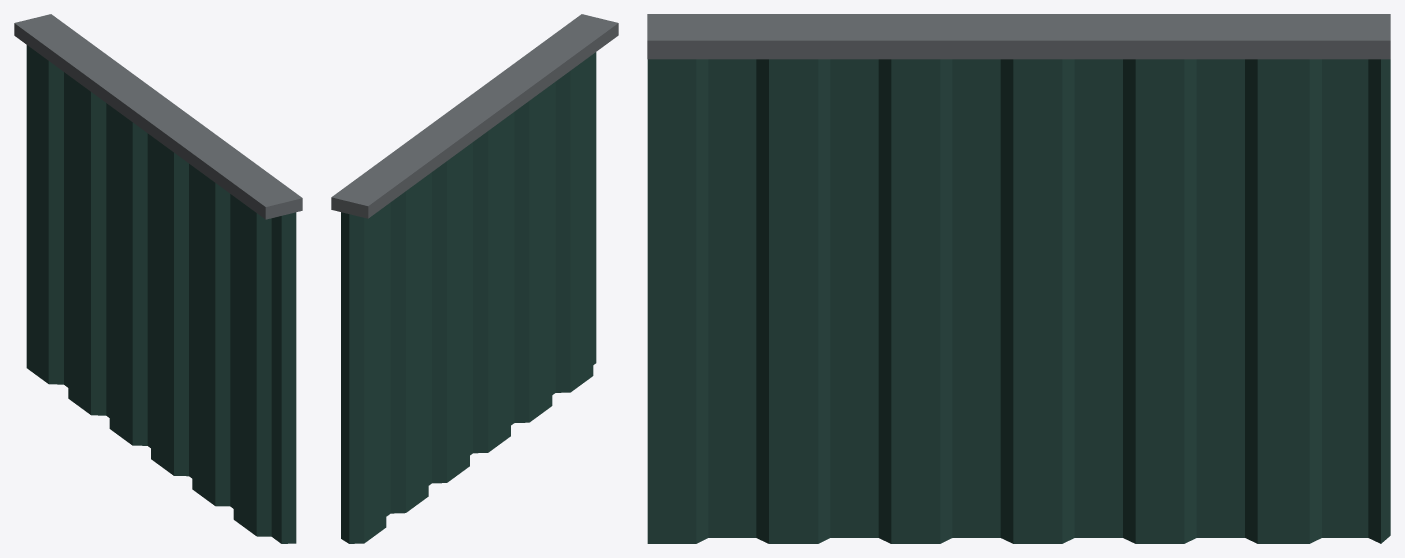
File: BlueMetalWallSmallCorrugatedFencing1.fbx
3 views of the same model, side by side, from view 1: azimuth 30°, elevation 25°; view 2: azimuth 150°, elevation 25°; view 3: azimuth 270°, elevation 25° (orthographic). The views are drawn at different scales.
Visible parts, largest first — view 1: BlueMetalWallSmallCorrugatedFencing1; view 2: BlueMetalWallSmallCorrugatedFencing1; view 3: BlueMetalWallSmallCorrugatedFencing1.
Boxes of the visible parts, x1,y1,x2,y2 form: BlueMetalWallSmallCorrugatedFencing1: (14,14,302,543); BlueMetalWallSmallCorrugatedFencing1: (331,14,618,543); BlueMetalWallSmallCorrugatedFencing1: (647,14,1390,543).
Bounding box in the file's own units: 46.23 × 411 × 545.
